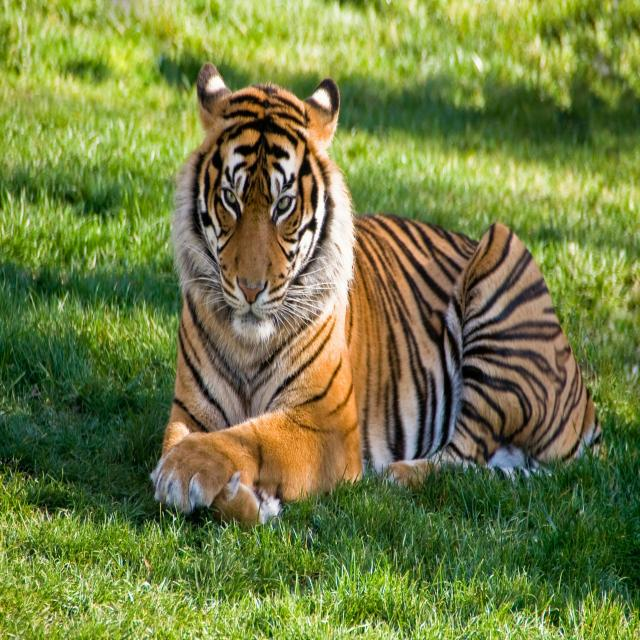Tiger: (147, 60, 599, 530)
